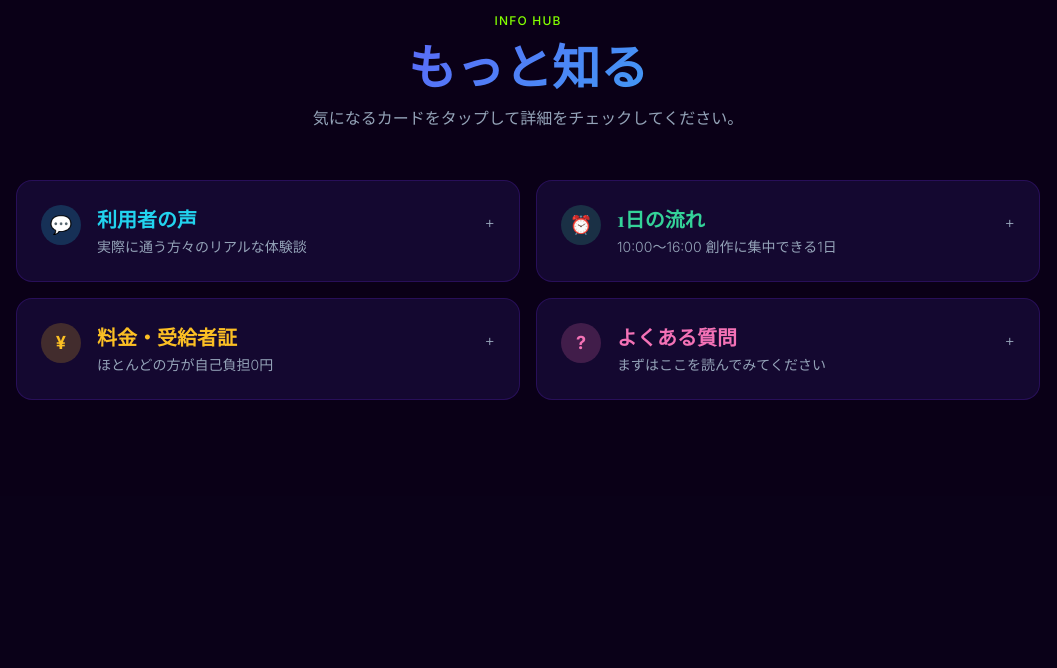
Test: InfoHubSection › clicking expanded card collapses it
Click the button "💬 利用者の声 実際に通う方々のリアルな体験談 +" at (61, 225), box [17, 181, 519, 281]
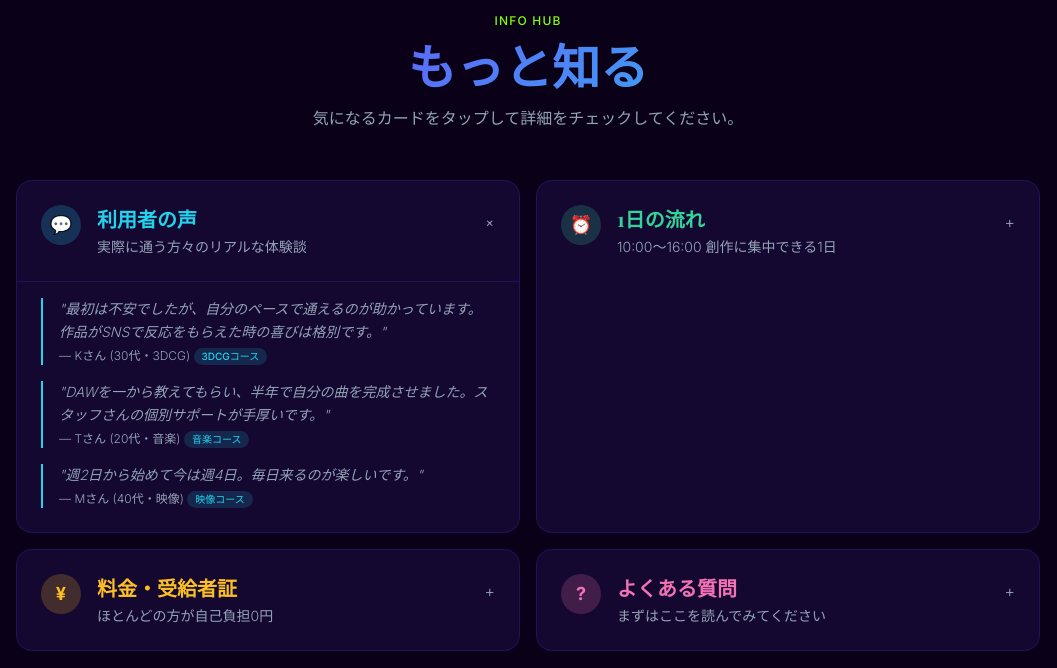
Click the button "💬 利用者の声 実際に通う方々のリアルな体験談 +" at (61, 225), box [17, 181, 519, 281]
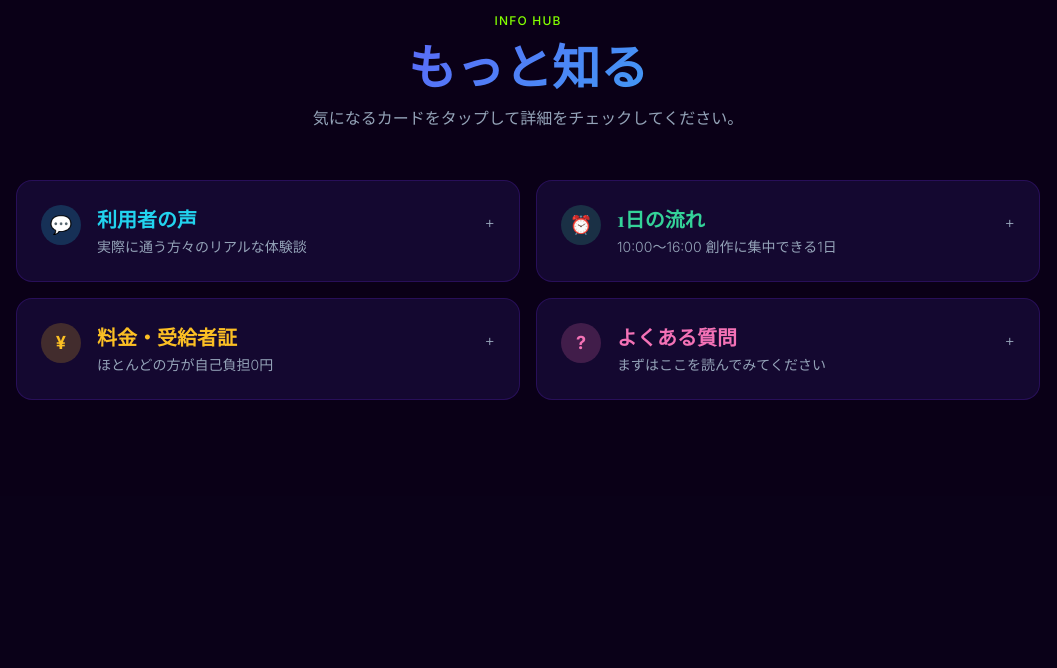
expect the button "💬 利用者の声 実際に通う方々のリアルな体験談 +" is collapsed: met, box [17, 181, 519, 281]
